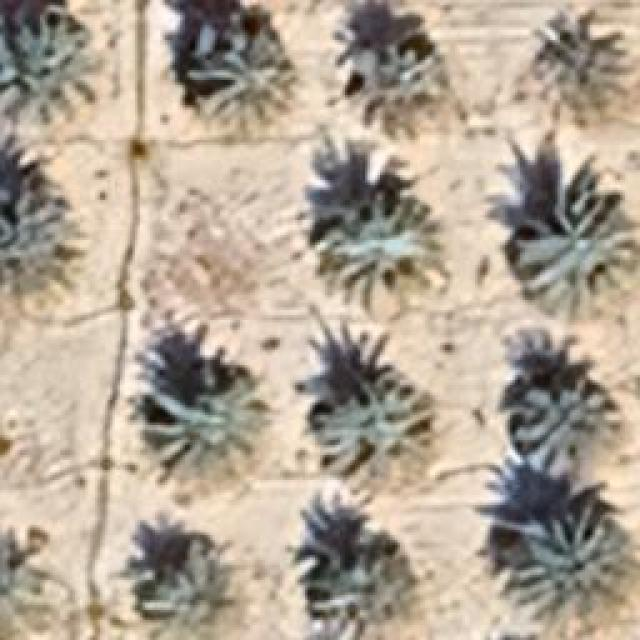PalmTree: (504, 160, 638, 318), (492, 507, 632, 635), (25, 138, 58, 585), (140, 380, 275, 482), (140, 534, 265, 638), (508, 380, 628, 482), (0, 14, 102, 127), (325, 218, 450, 310), (532, 10, 638, 118), (310, 362, 418, 468), (188, 39, 300, 132), (312, 536, 416, 619), (350, 40, 440, 135), (29, 104, 50, 221)
